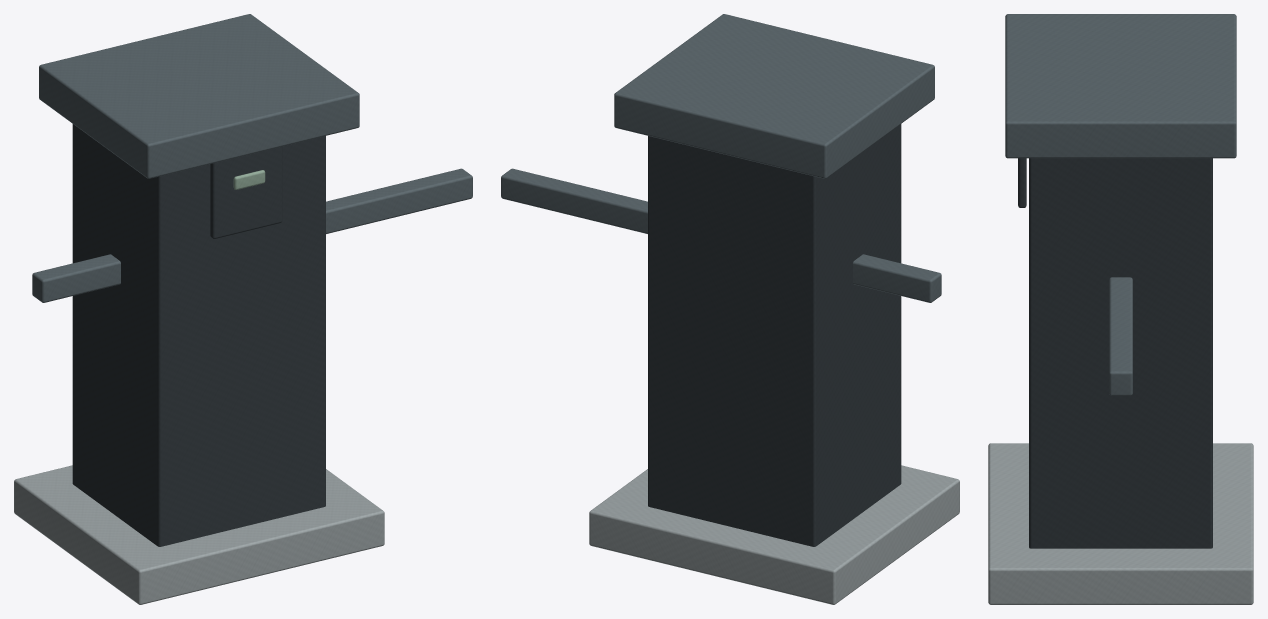
The model's file is SecurityTurnstile.fbx.
3 views of the same model, side by side, from view 1: azimuth 30°, elevation 25°; view 2: azimuth 150°, elevation 25°; view 3: azimuth 270°, elevation 25° (orthographic). The views are drawn at different scales.
Parts seen in each view (by area): view 1: SecurityTurnstile_Mesh; view 2: SecurityTurnstile_Mesh; view 3: SecurityTurnstile_Mesh.
Part boxes in pixels (bbox=[...]): SecurityTurnstile_Mesh: bbox=[14, 14, 472, 604]; SecurityTurnstile_Mesh: bbox=[501, 14, 959, 604]; SecurityTurnstile_Mesh: bbox=[988, 14, 1253, 604].
Bounding box in the file's own units: 154 × 154 × 78.
Materials: 4 (4 with a texture image).
